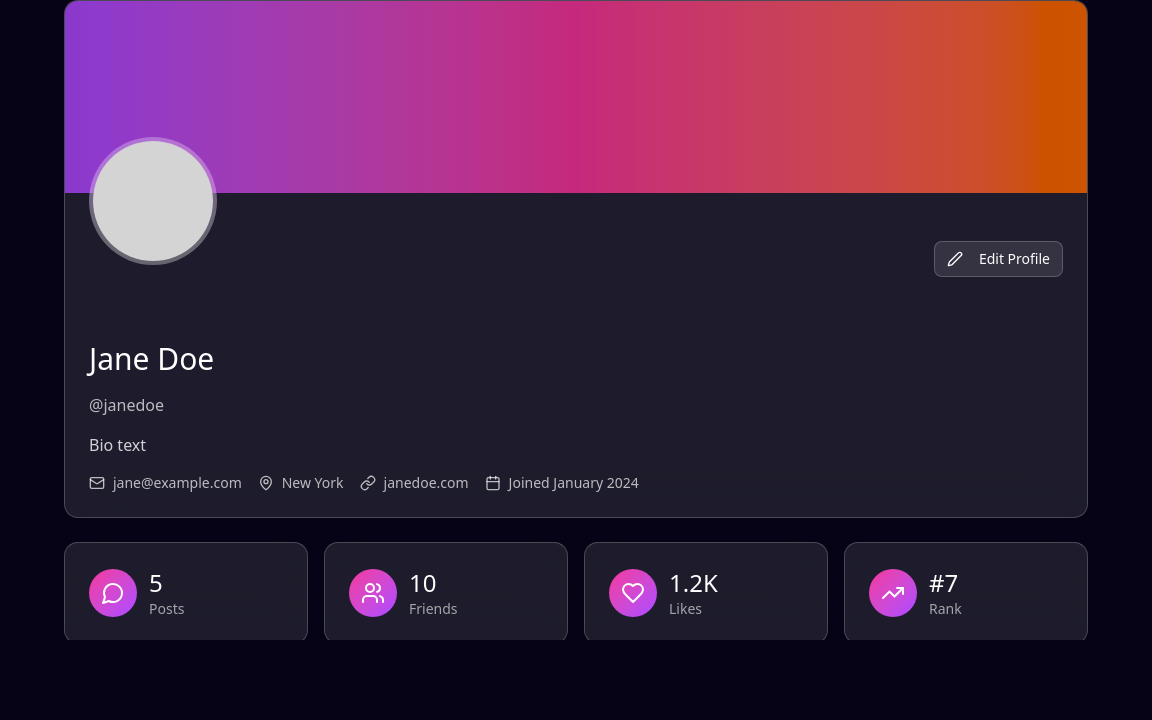
it: Profile component › allows editing and saving profile details successfully
Click the button "Edit Profile" at [998, 259], box [934,241,1063,277]
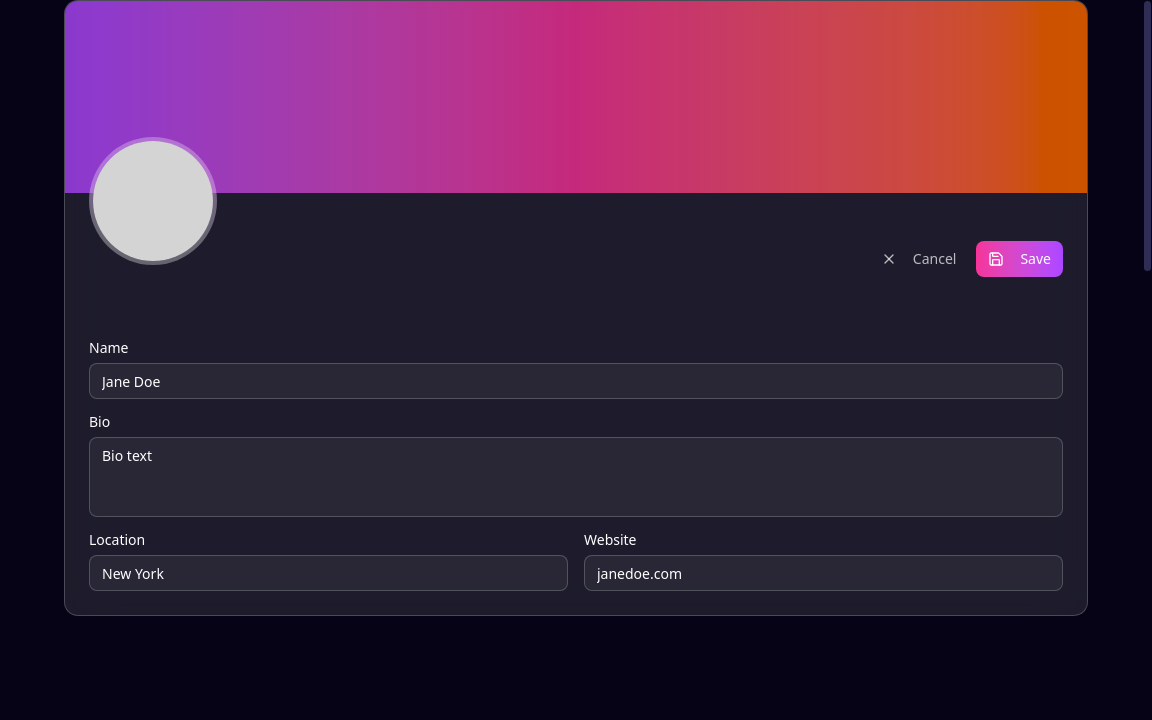
Replace the text in the field showing "Jane Doe" below "Name" with "Janet Tester" at [576, 381], box [89,363,1063,399]
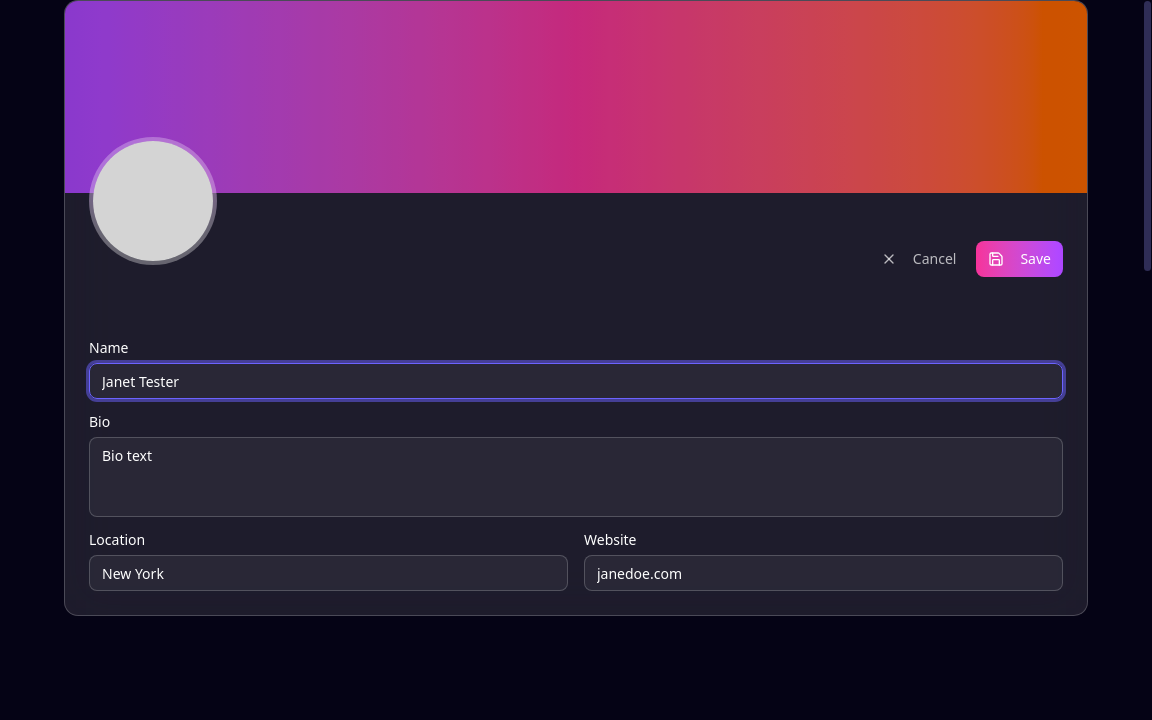
Replace the text in the text box showing "Bio text" with "Testing bio updates" at [576, 477], box [89,437,1063,517]
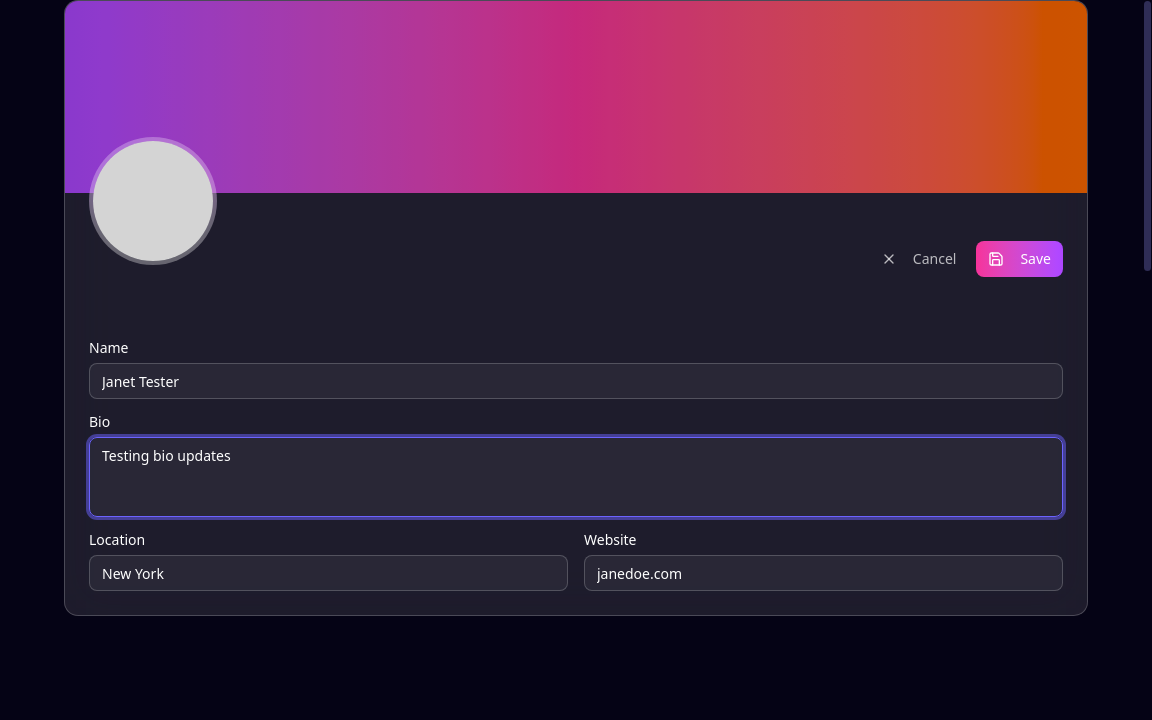
Replace the text in the field showing "New York" below "Location" with "San Francisco" at [328, 573], box [89,555,568,591]
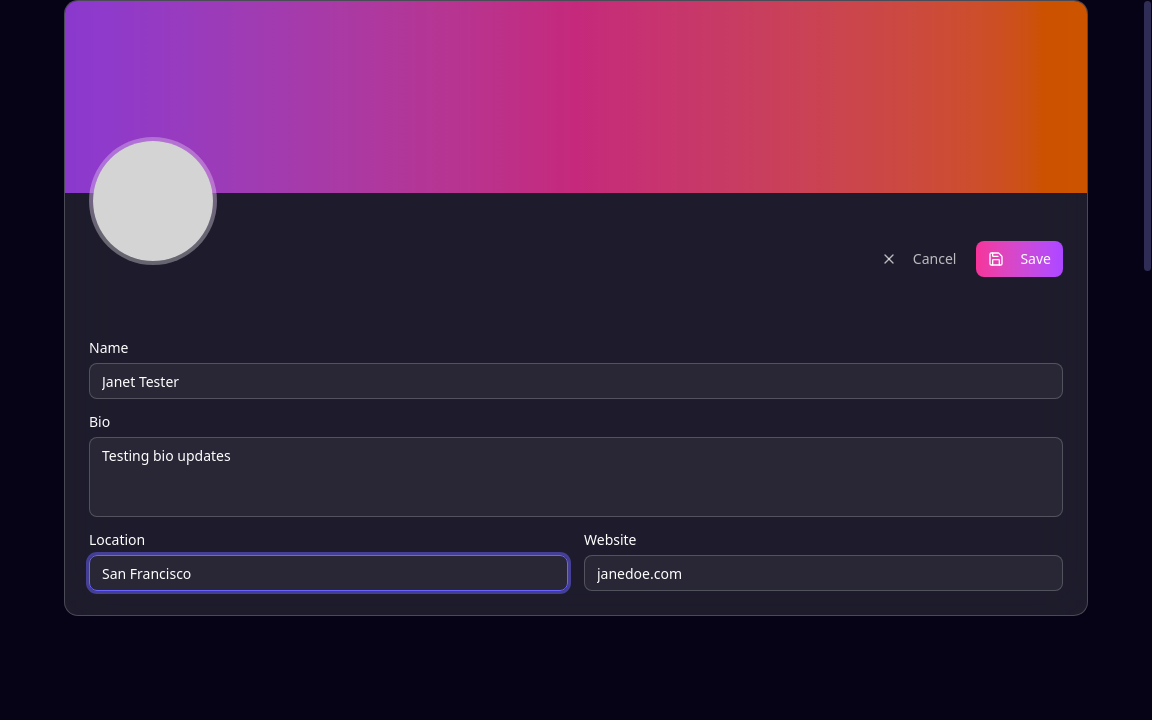
Replace the text in the field showing "janedoe.com" below "Website" with "janet.dev" at [824, 573], box [584,555,1063,591]
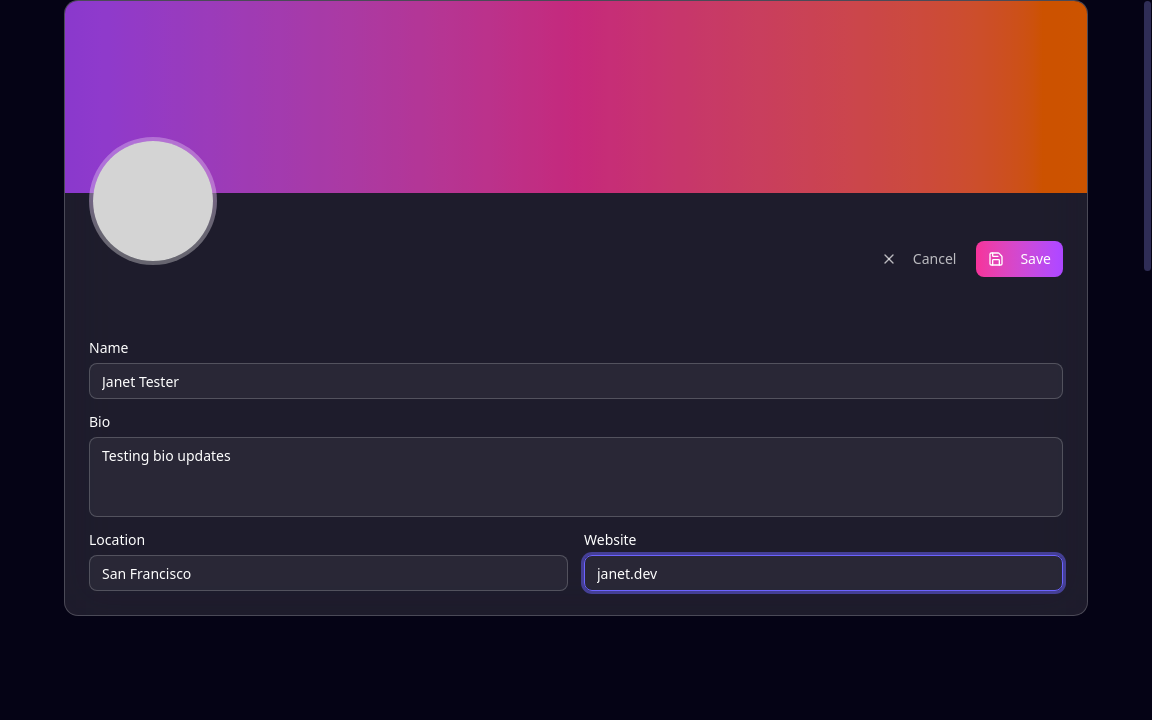
Click the button "Save" at [1020, 259], box [976,241,1063,277]
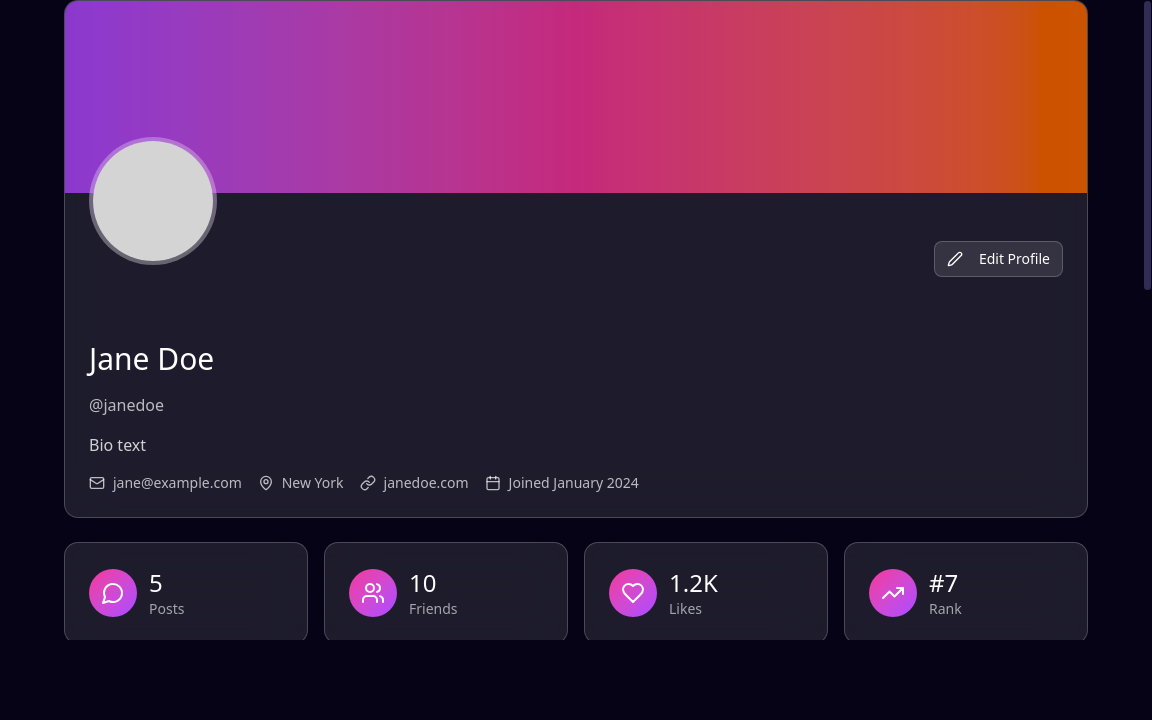
Expected: the field showing "Testing bio updates" is not shown
Now the text "1.2K" is shown, box [669,567,718,599]
